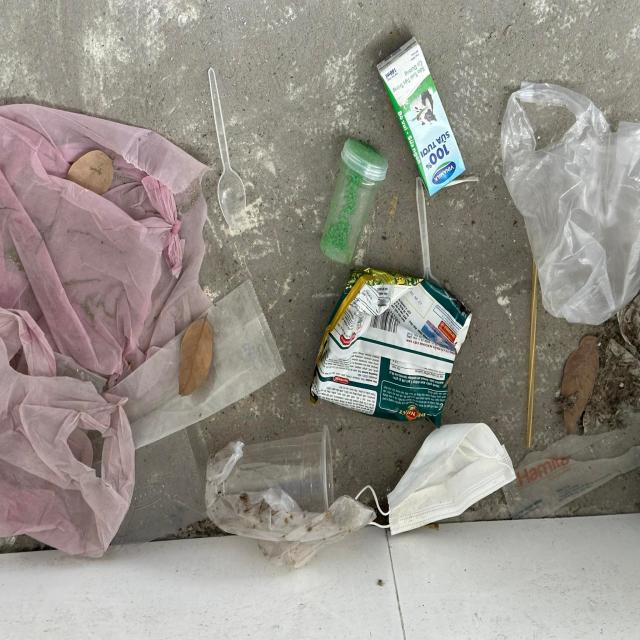bag: (501, 80, 640, 324)
drinking straw: (527, 257, 538, 448)
mask: (352, 422, 516, 536)
milk box: (376, 37, 466, 197)
plastic glass: (206, 426, 334, 512)
plastic utensil: (208, 68, 246, 230)
snack package: (309, 268, 474, 429)
